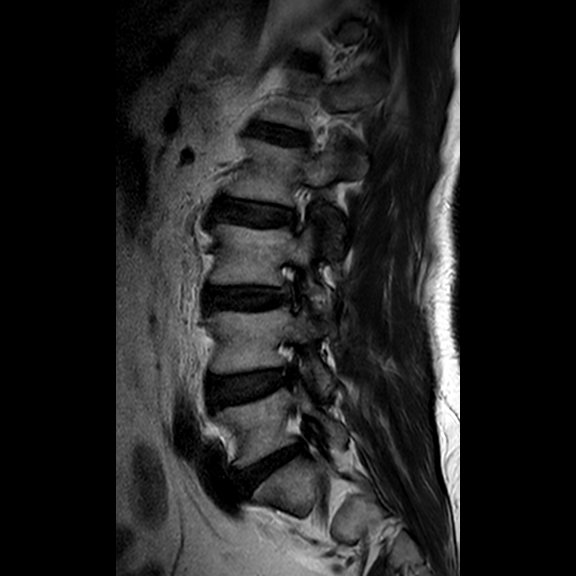LFS0: (280, 173, 321, 242)
